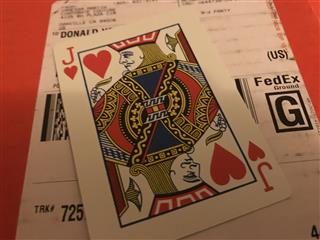JackOfHearts: (52, 8, 292, 239)
